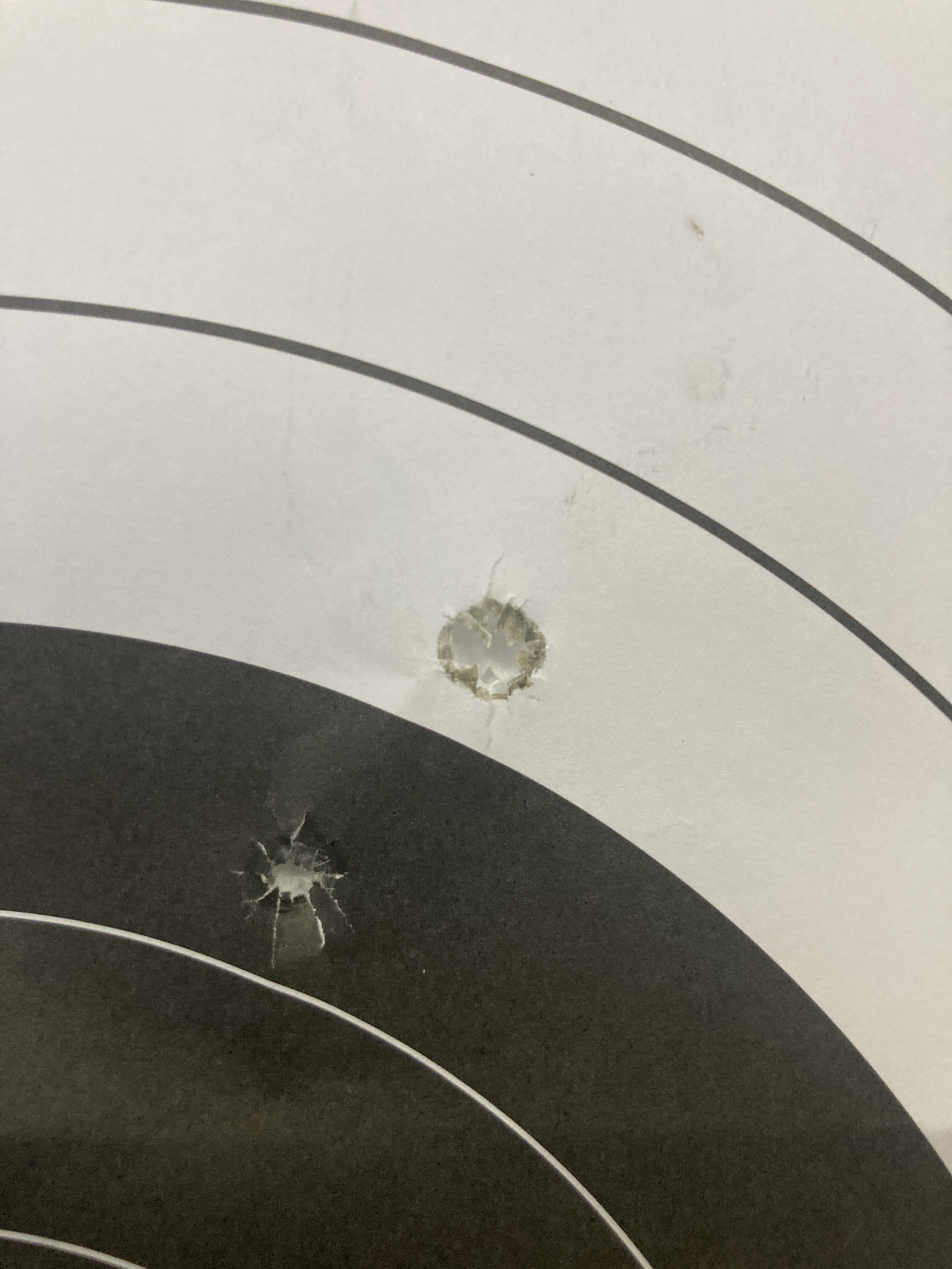hole: (214, 784, 394, 954), (419, 563, 586, 721)
